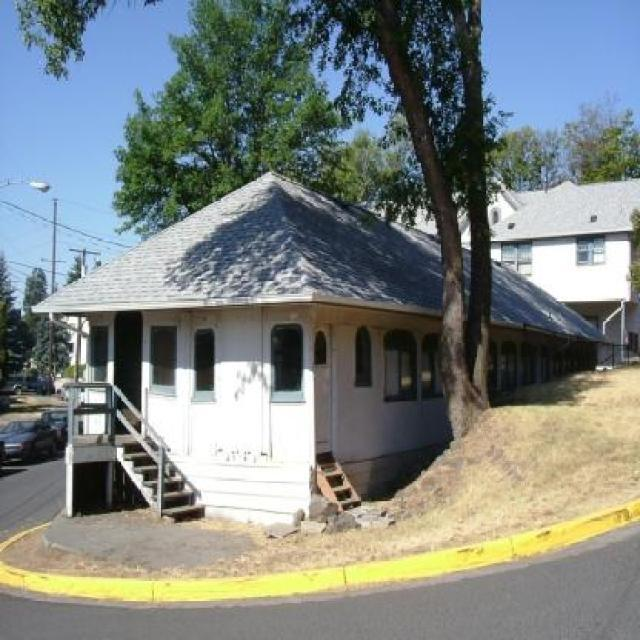stair: (114, 438, 206, 524), (315, 454, 360, 516)
